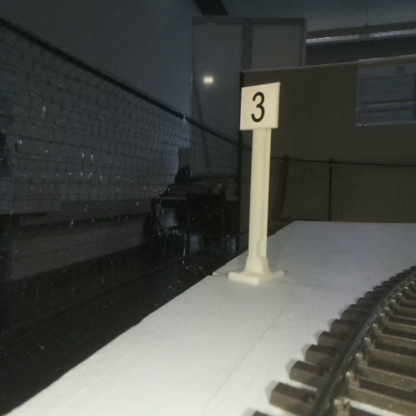white-info-3: (241, 83, 278, 280)
